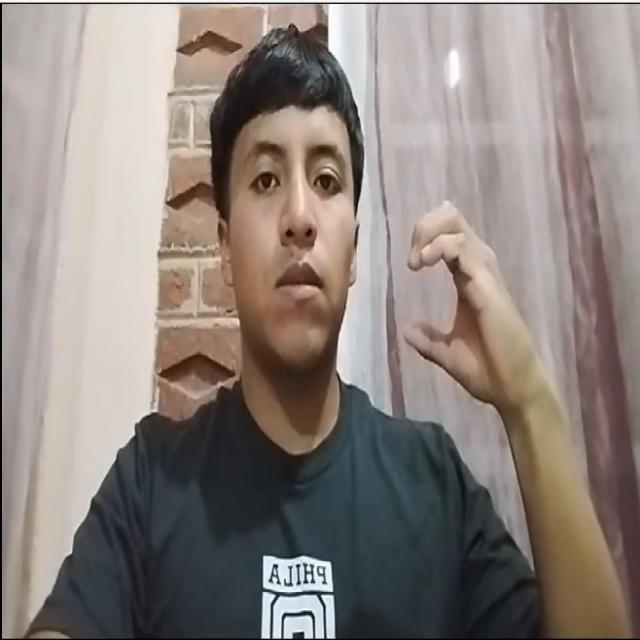C: (392, 192, 557, 428)
